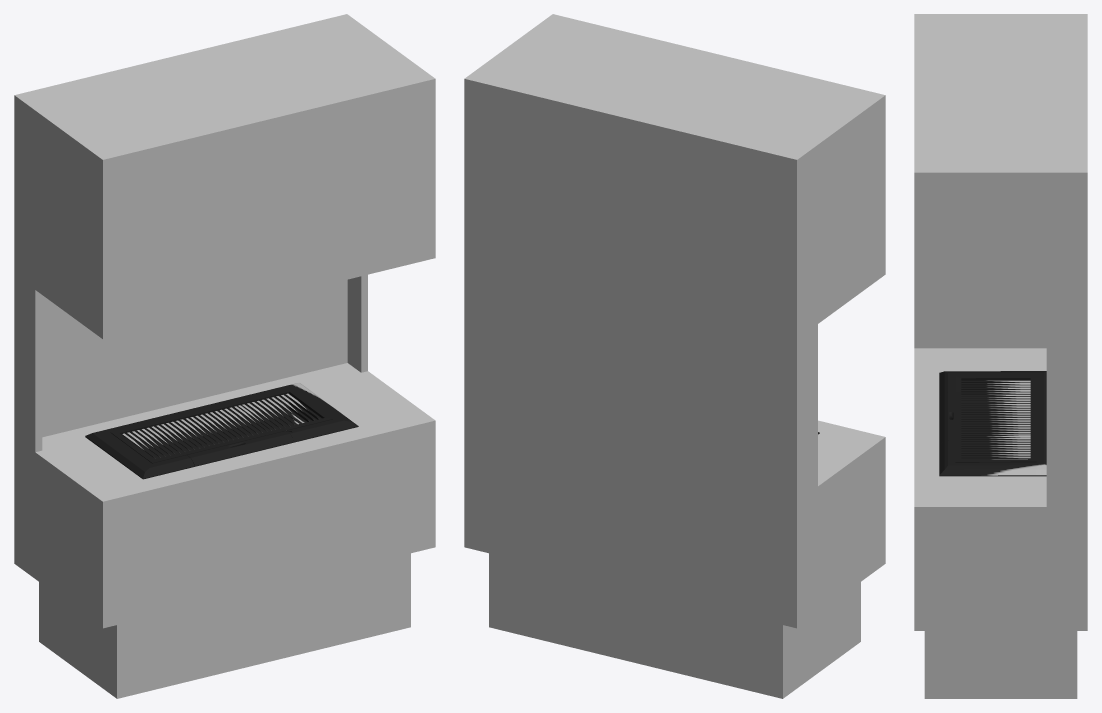
The model's file is Nuoro.fbx.
3 views of the same model, side by side, from view 1: azimuth 30°, elevation 25°; view 2: azimuth 150°, elevation 25°; view 3: azimuth 270°, elevation 25° (orthographic). The views are drawn at different scales.
Parts seen in each view (by area): view 1: Cube.034; view 2: Cube.034; view 3: Cube.034.
Part boxes in pixels (bbox=[...]): Cube.034: bbox=[14, 14, 435, 698]; Cube.034: bbox=[464, 14, 885, 698]; Cube.034: bbox=[914, 14, 1087, 698].
Bounding box in the file's own units: 152 × 239 × 70.
